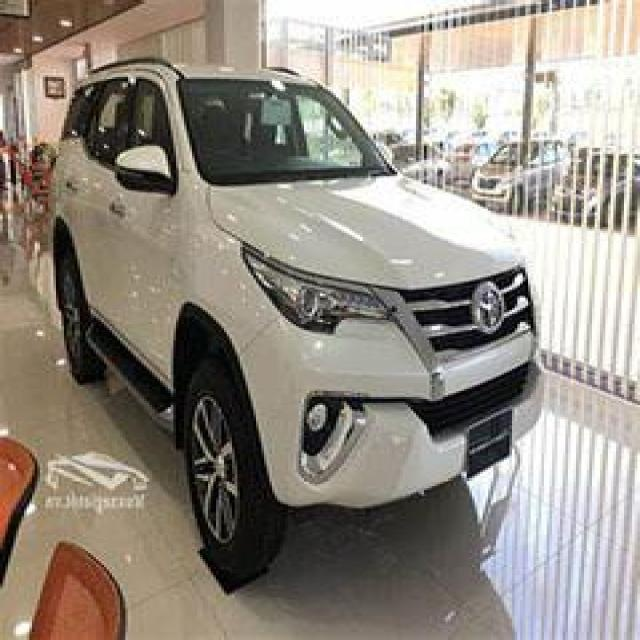car: (12, 20, 572, 593)
